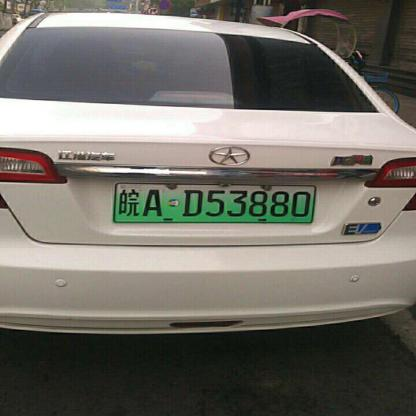lp: (115, 182, 314, 221)
